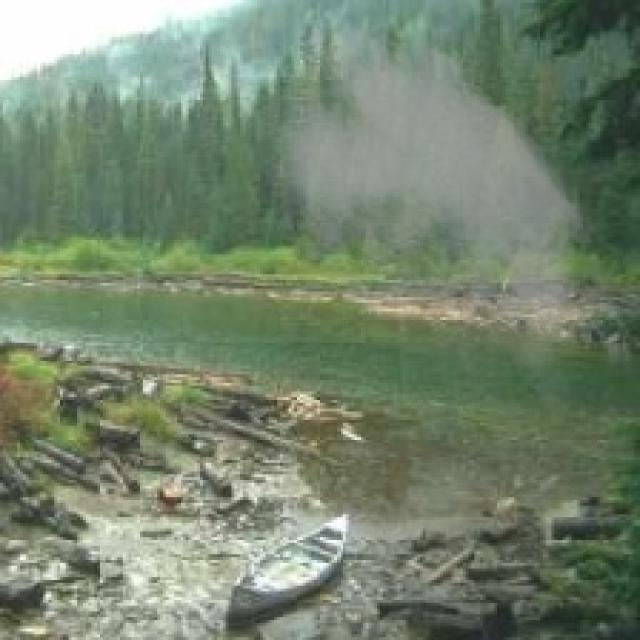smoke: (246, 11, 628, 432)
